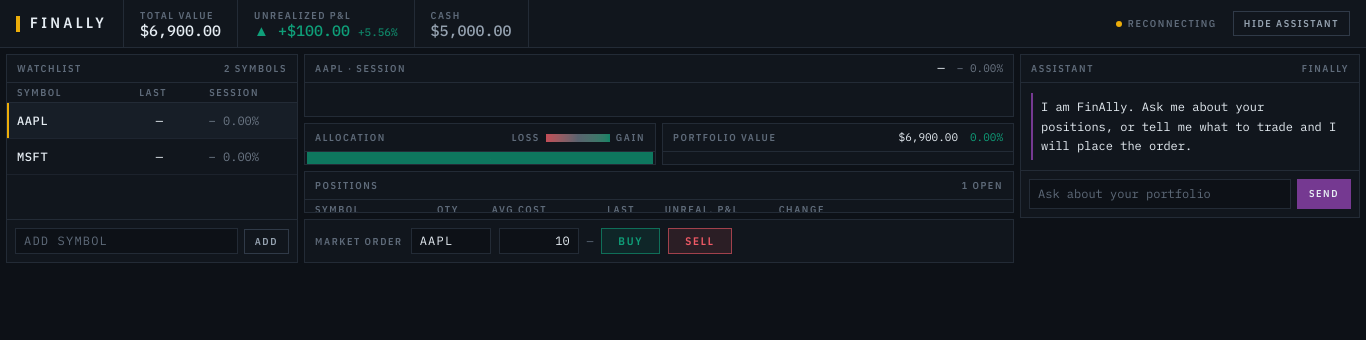
Scenario: Workstation › drops a ticker the assistant removed from the watchlist
Expected: the button with test id "watchlist-row-MSFT" is shown, [7,139,297,175]
Type "Drop MSFT" into the field with test id "chat-input" at point(1160, 194), box [1029,178,1291,208]
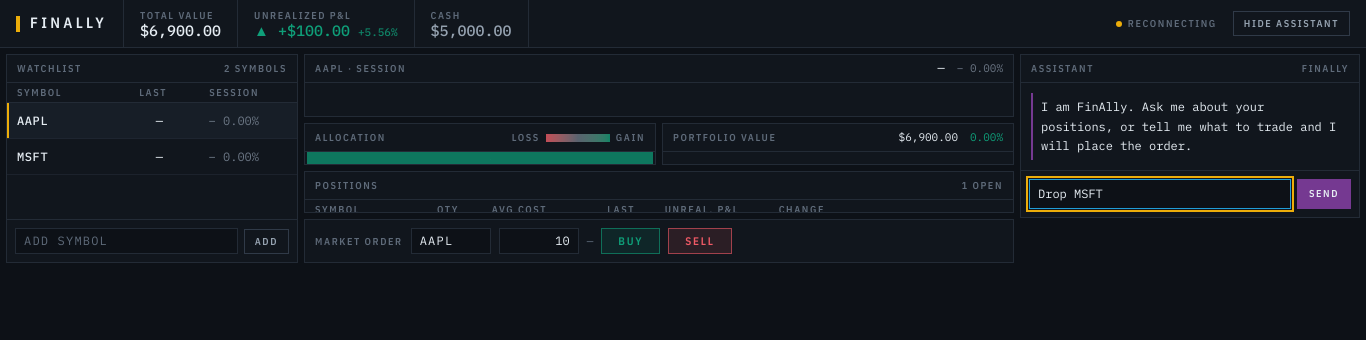
Click the button with test id "chat-send" at point(1324, 194), box [1297,178,1351,208]
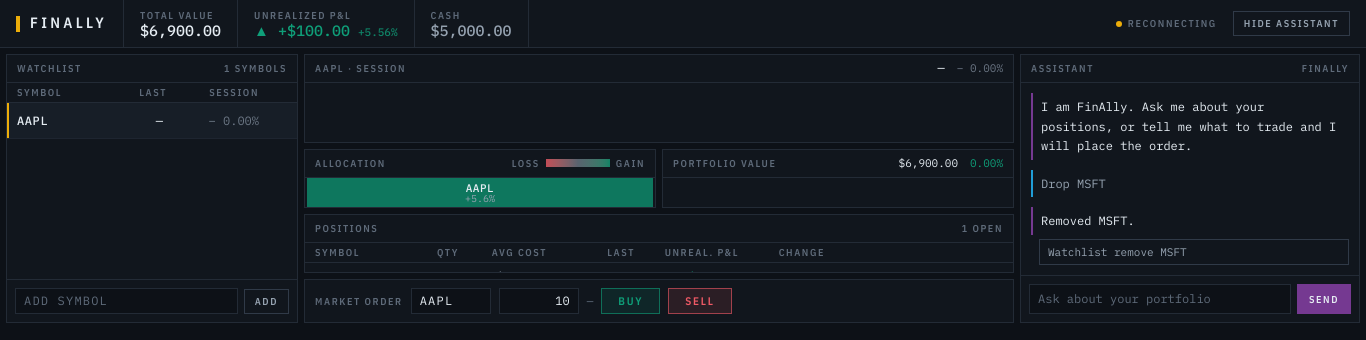
Expected: the button with test id "watchlist-row-MSFT" is gone
